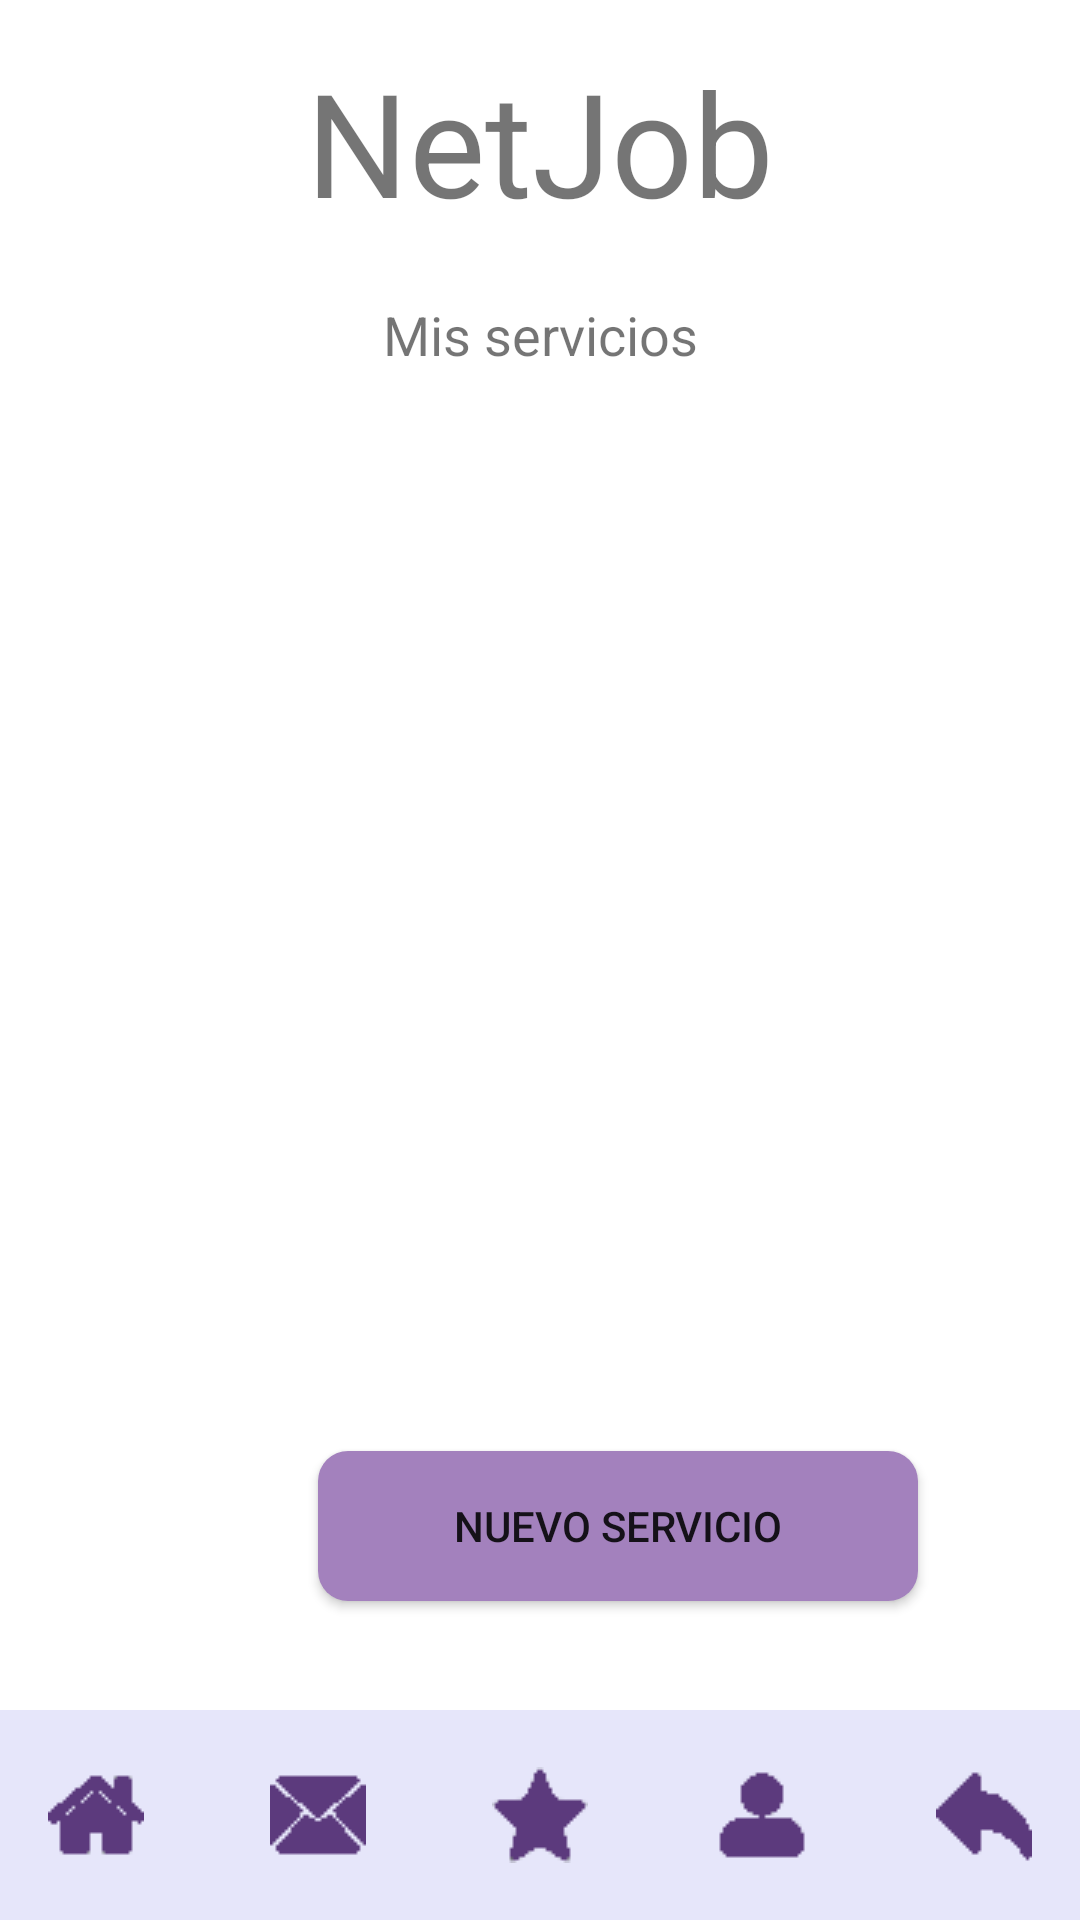

Icons on this 1080x1920 Android screen, each with the point to tap as (x,y):
back: (984,1816)
buzon: (318,1815)
favorito: (540,1816)
inicio: (96,1815)
perfil: (762,1815)
